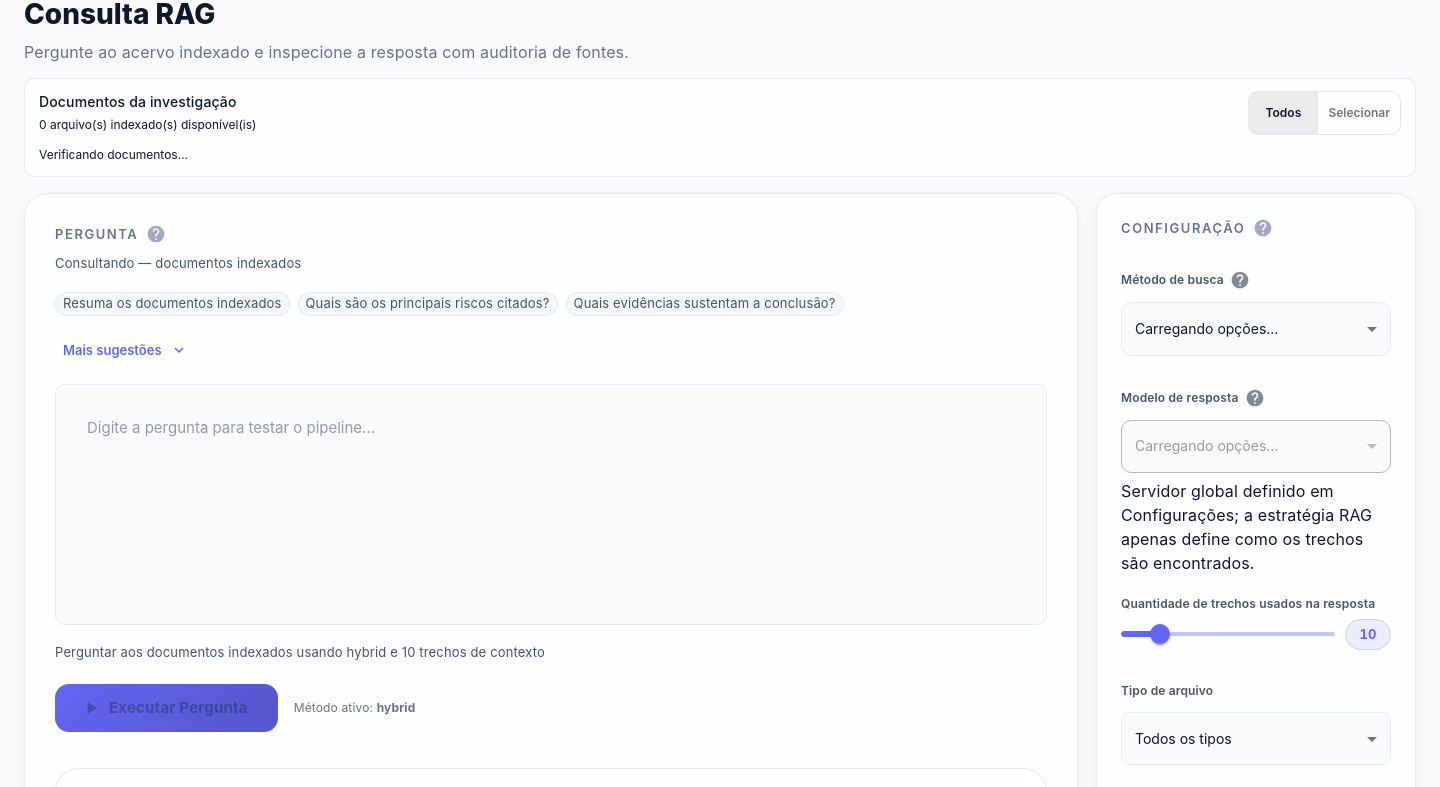
Test: QueryPage pending feedback › shows pending feedback and prevents duplicate runs
Type "Como funciona o plasma?" into the text box with placeholder "Digite a pergunta para testar o pipeline...".
click(551, 504); type("Como funciona o plasma?")  # box [69,400,1033,608]
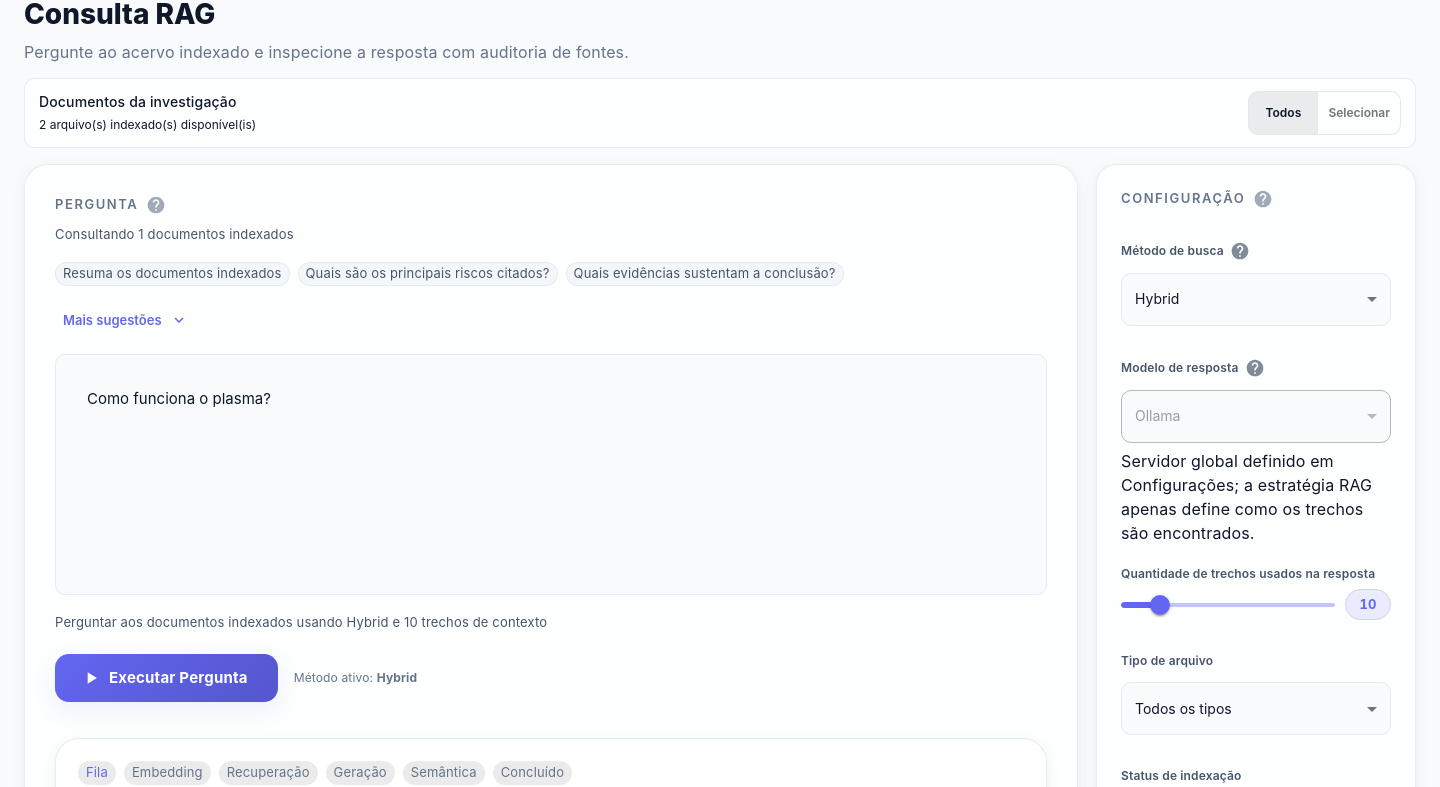
Check: the button "Executar Pergunta" is enabled
Click the button "Executar Pergunta".
click(166, 678)  # box [55,654,278,702]
(page scrolled)
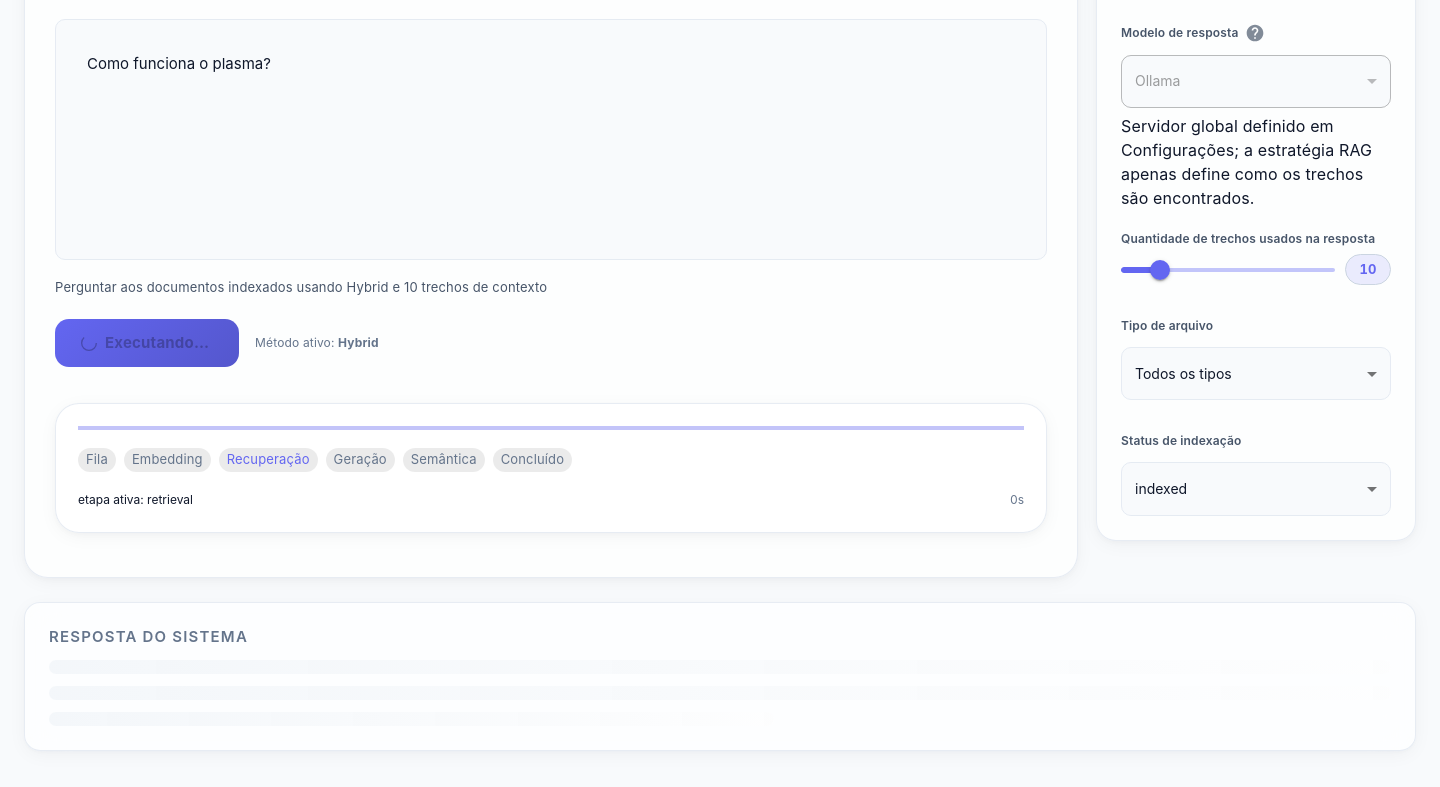
Check: the button named "Executar Pergunta" is disabled, box [55,319,239,367]
Check: the text "0s" is shown, box [1010,490,1024,510]
